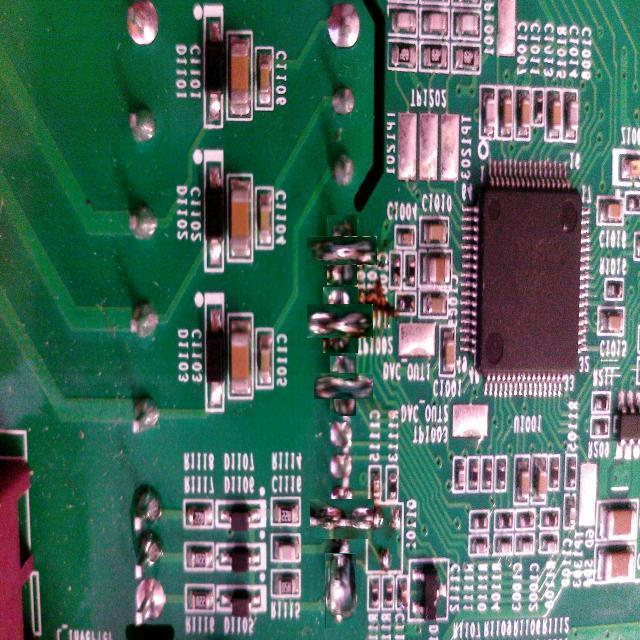Short_circuit: (315, 493, 368, 546), (315, 295, 366, 346), (318, 226, 368, 276), (325, 553, 356, 628), (321, 364, 365, 408)
